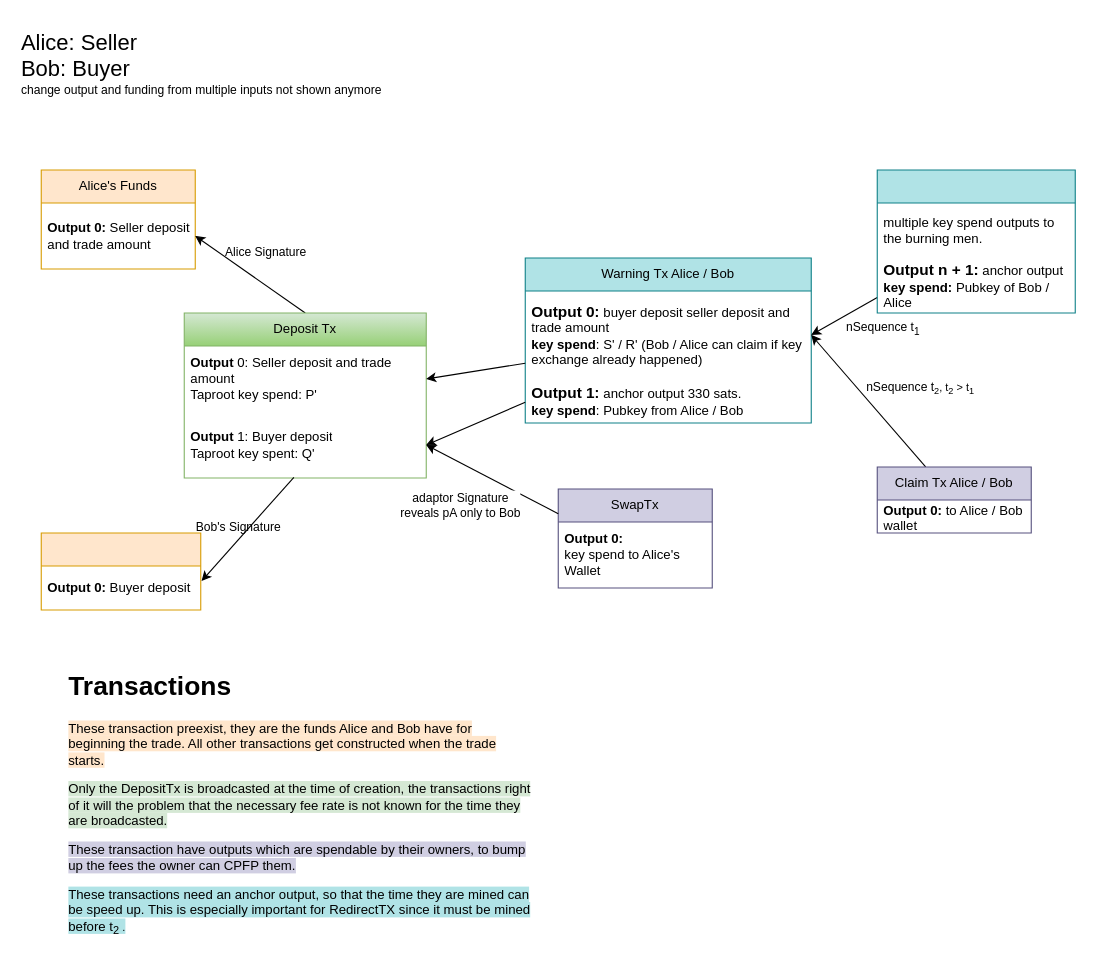
Some shapes in this 1095 by 969 pixel diagram are drawn without their labels. Here are the shapes that lost their labels. From the top down, the box of each, then its label:
(876, 169, 1075, 313): Redirect Tx Bob / Alice
(40, 532, 201, 610): Bob's Funds
